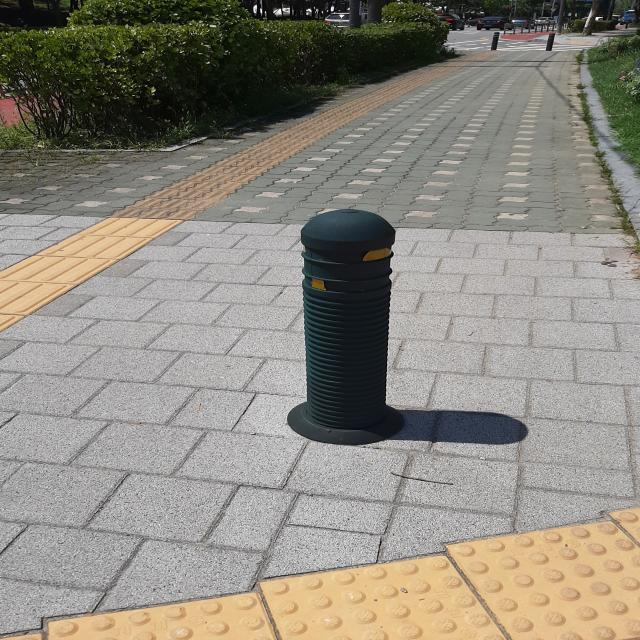pole: (286, 208, 404, 446)
